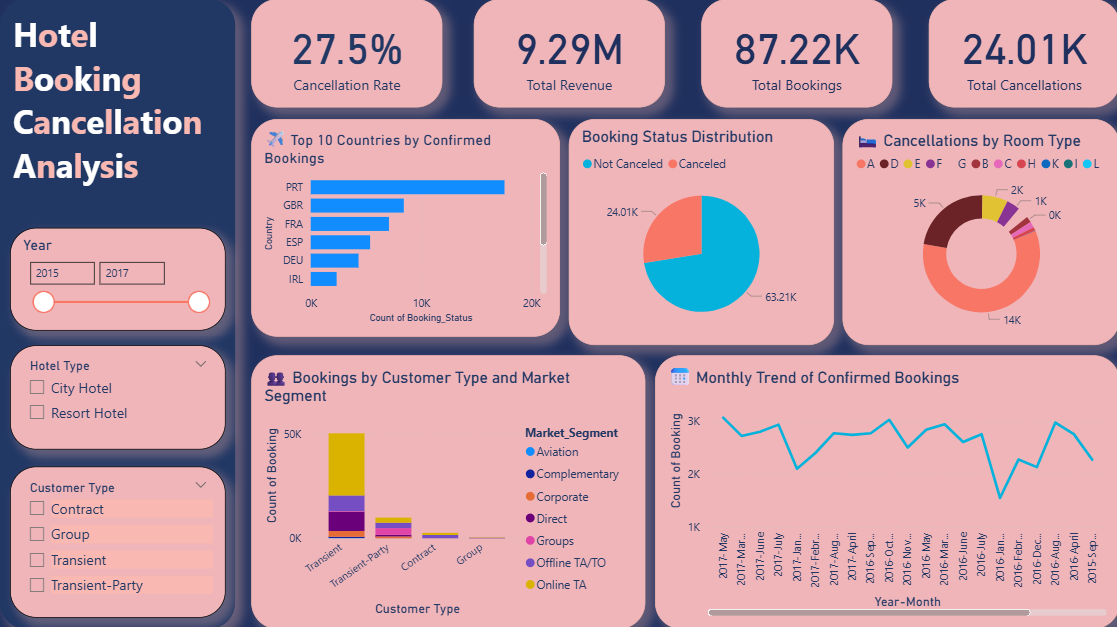

The page's visual inventory and layout, read from the dashboard file:
{"tool":"powerbi","page":{"name":"Page 1","canvas":[1280,720],"ordinal":0},"visuals":[{"type":"card","title":"Total Bookings","fields":{"Values":["CountNonNull(cleaned_hotel_bookings-Queen.Is_Canceled)"]},"box":[808.9,0,218.9,124.4],"z":0},{"type":"card","fields":{"Values":["CountNonNull(cleaned_hotel_bookings-Queen.Is_Canceled)"]},"box":[1061.1,0,218.9,124.4],"z":1000},{"type":"actionButton","box":[0,0,100,40],"z":2000},{"type":"card","fields":{"Values":["cleaned_hotel_bookings-Queen.Cancellation Rate"]},"box":[293.3,1.1,218.9,123.3],"z":3000},{"type":"card","fields":{"Values":["cleaned_hotel_bookings-Queen.Total Revenue"]},"box":[553.3,0,218.9,124.4],"z":4000},{"type":"pieChart","title":"Booking Status Distribution","fields":{"Category":["cleaned_hotel_bookings-Queen.Booking_Status"],"Y":["CountNonNull(cleaned_hotel_bookings-Queen.Is_Canceled)"]},"box":[650,146.7,302.2,246.7],"z":5000},{"type":"clusteredBarChart","title":"✈️ Top 10 Countries by Confirmed Bookings","fields":{"Category":["cleaned_hotel_bookings-Queen.Country"],"Y":["CountNonNull(cleaned_hotel_bookings-Queen.Booking_Status)"]},"box":[287.8,146.7,352.2,246.7],"z":6000},{"type":"lineChart","title":"📅 Monthly Trend of Confirmed Bookings","fields":{"Category":["cleaned_hotel_bookings-Queen.YearMonth"],"Y":["CountNonNull(cleaned_hotel_bookings-Queen.Booking_Status)"]},"box":[728.9,407.8,551.1,312.2],"z":6001},{"type":"columnChart","title":"👥 Bookings by Customer Type and Market Segment","fields":{"Category":["cleaned_hotel_bookings-Queen.Customer_Type"],"Y":["CountNonNull(cleaned_hotel_bookings-Queen.Booking_Status)"],"Series":["cleaned_hotel_bookings-Queen.Market_Segment"]},"box":[287.8,407.8,422.2,312.2],"z":6002},{"type":"donutChart","title":"🛏️ Cancellations by Room Type","fields":{"Category":["cleaned_hotel_bookings-Queen.Assigned_Room_Type"],"Y":["Sum(cleaned_hotel_bookings-Queen.Is_Canceled)"]},"box":[962.2,146.7,317.8,246.7],"z":6003},{"type":"textbox","box":[0,0,250,720],"z":6004}]}

Visuals, with their boxes in screenshot pixels (x1, y1, x2, y2), scaled from the page's 1280x720 canvas onto the 1117x627 screenshot:
"Total Bookings" card: Rect(706, 0, 897, 108)
card - CountNonNull(cleaned_hotel_bookings-Queen.Is_Canceled): Rect(926, 0, 1116, 108)
actionButton: Rect(0, 0, 87, 35)
card - cleaned_hotel_bookings-Queen.Cancellation Rate: Rect(256, 1, 447, 108)
card - cleaned_hotel_bookings-Queen.Total Revenue: Rect(483, 0, 674, 108)
"Booking Status Distribution" pieChart: Rect(567, 128, 831, 343)
"✈️ Top 10 Countries by Confirmed Bookings" clusteredBarChart: Rect(251, 128, 558, 343)
"📅 Monthly Trend of Confirmed Bookings" lineChart: Rect(636, 355, 1116, 626)
"👥 Bookings by Customer Type and Market Segment" columnChart: Rect(251, 355, 620, 626)
"🛏️ Cancellations by Room Type" donutChart: Rect(840, 128, 1116, 343)
textbox: Rect(0, 0, 218, 626)
